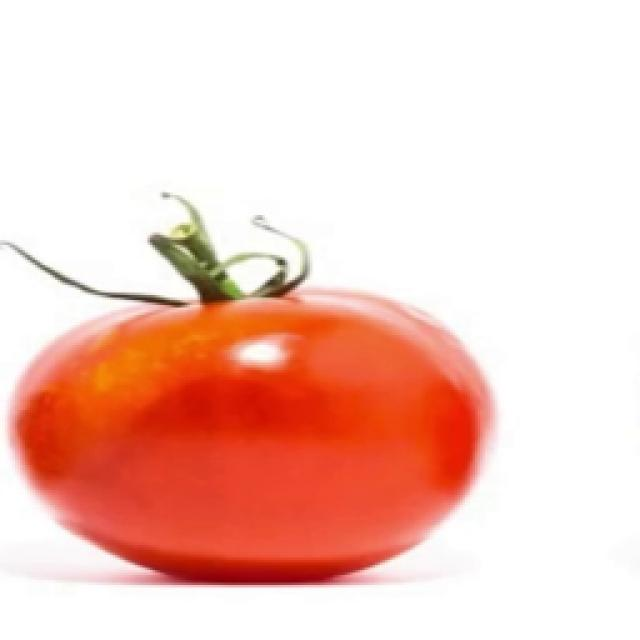tomato: (8, 281, 495, 587)
